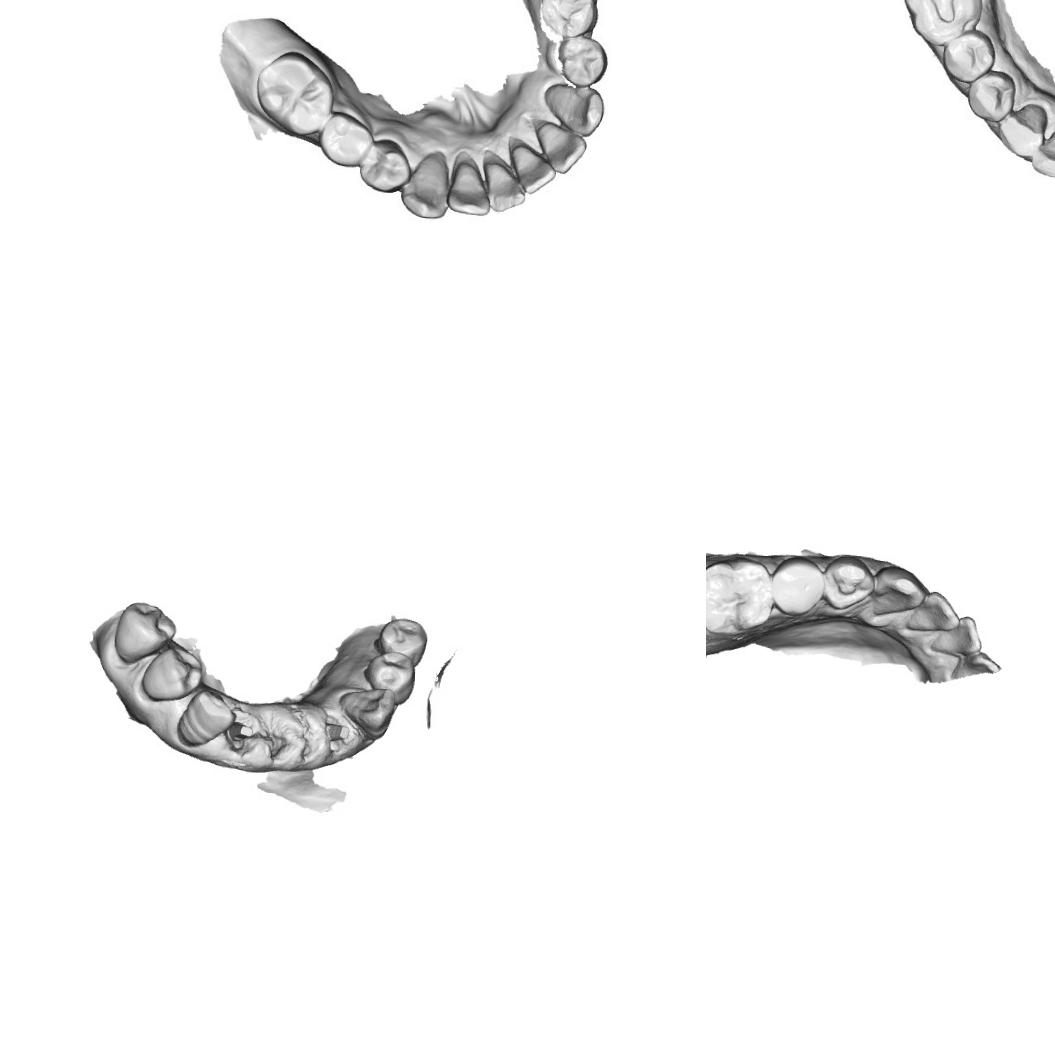abutment: (322, 720, 351, 746), (228, 720, 254, 746)
canine: (398, 144, 456, 220), (176, 687, 238, 748), (869, 562, 926, 626), (995, 100, 1054, 158), (544, 84, 603, 140), (335, 685, 396, 739)
incisor: (905, 588, 962, 638), (928, 612, 985, 660), (534, 121, 586, 171), (506, 138, 554, 191), (448, 156, 488, 210), (484, 157, 524, 209), (1029, 128, 1055, 179)
molar: (252, 48, 334, 133), (706, 558, 775, 636), (903, 0, 985, 42)
premolar: (113, 599, 179, 666), (140, 646, 204, 704), (554, 29, 610, 84), (770, 554, 824, 611), (822, 556, 874, 613), (316, 115, 374, 166), (364, 650, 416, 706), (375, 617, 429, 665), (535, 0, 599, 40), (362, 138, 406, 196), (944, 32, 996, 80), (969, 73, 1012, 119)
